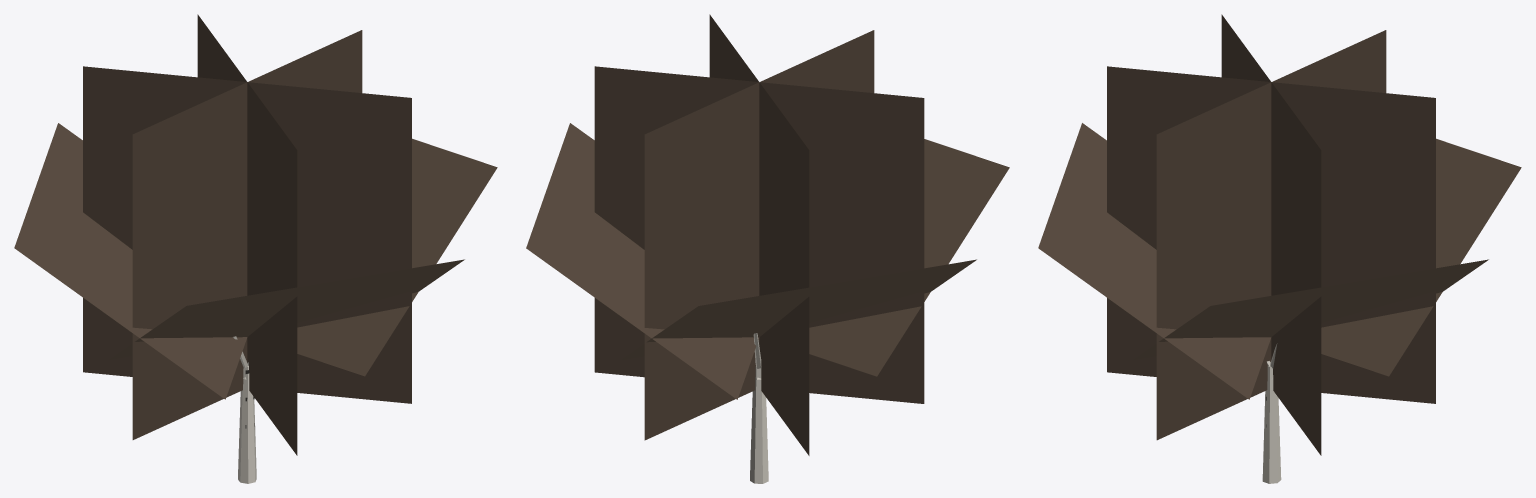
The model's file is tree_bare_birch.glb.
The picture shows the model from 3 angles, left to right: view 1: azimuth 30°, elevation 25°; view 2: azimuth 150°, elevation 25°; view 3: azimuth 270°, elevation 25°; orthographic projection.
Visible parts, largest first — view 1: tree_bare_birch; view 2: tree_bare_birch; view 3: tree_bare_birch.
Boxes of the visible parts, x1,y1,x2,y2 form: tree_bare_birch: (14, 14, 497, 483); tree_bare_birch: (526, 14, 1009, 483); tree_bare_birch: (1038, 14, 1521, 483).
Size of the model in its own units: 13.71 by 11.7 by 12.89.
